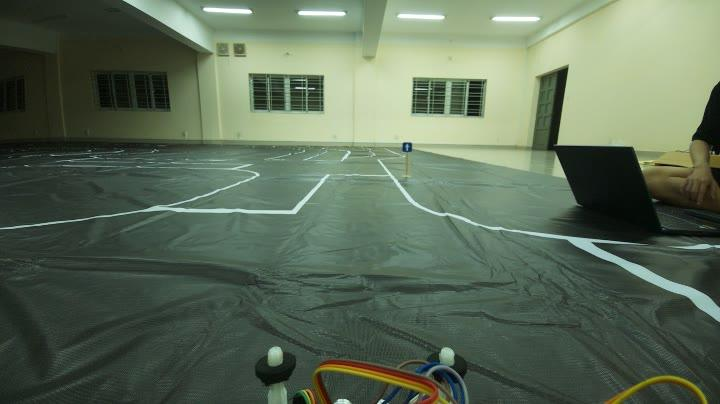onewayroad: (400, 138, 414, 154)
